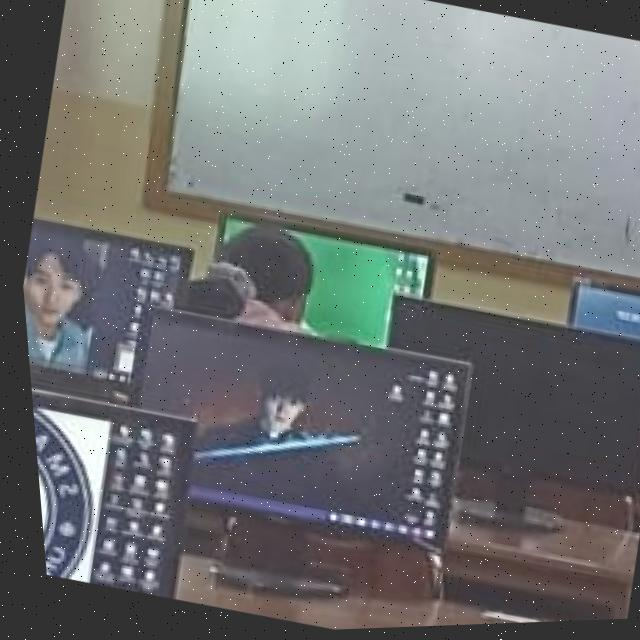offscreen: (383, 301, 640, 494)
onscreen: (134, 312, 461, 551), (25, 391, 186, 599), (18, 220, 186, 382), (292, 235, 423, 347), (567, 289, 640, 345)
